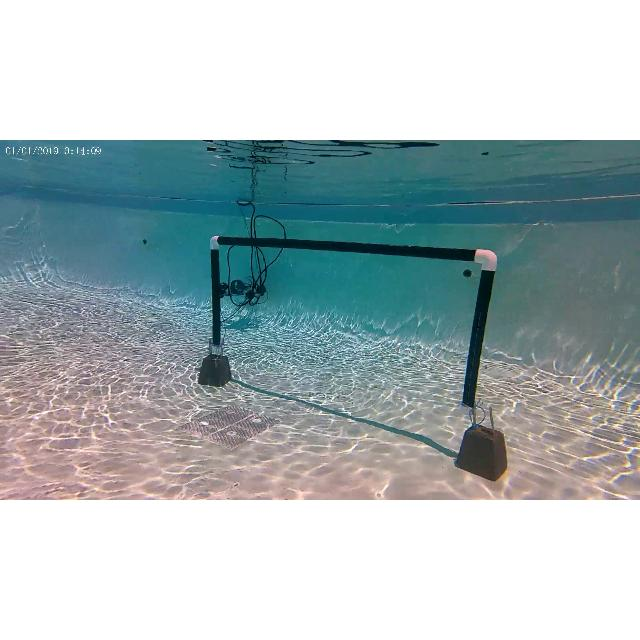prequal gate: (212, 238, 498, 418)
prequal gate leg l: (204, 236, 232, 386)
prequal gate leg r: (466, 247, 509, 477)
